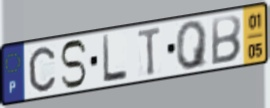B: (210, 14, 243, 67)
C: (27, 45, 57, 94)
L: (101, 33, 129, 85)
Q: (175, 18, 210, 72)
S: (59, 38, 89, 91)
T: (136, 24, 163, 78)
